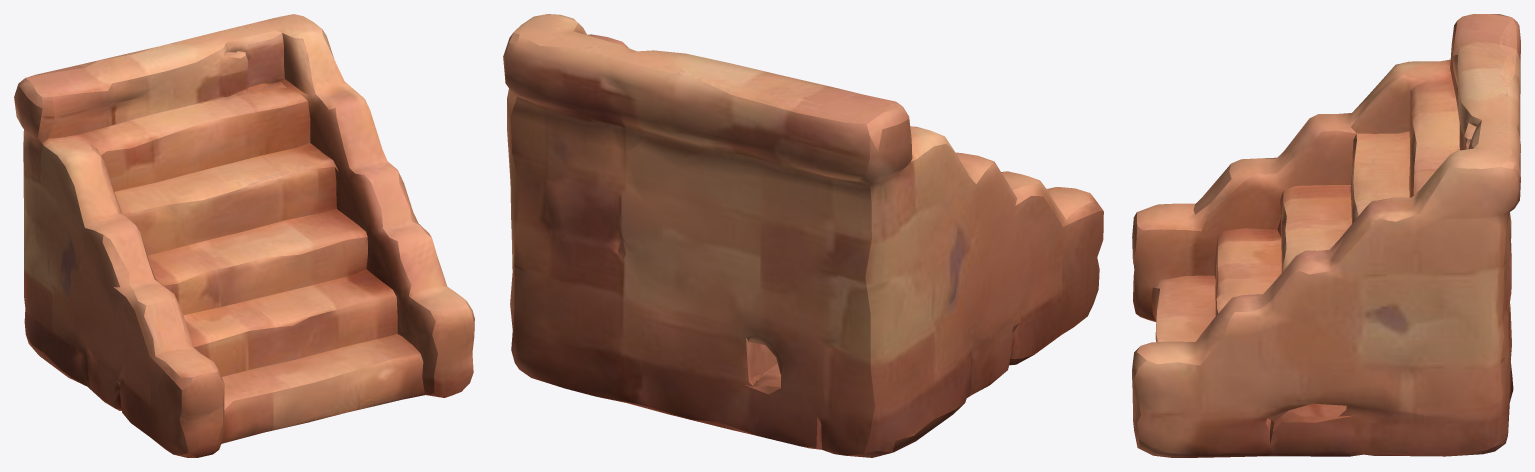
File: lg-ruined-amphitheatre.glb
3 views of the same model, side by side, from view 1: azimuth 30°, elevation 25°; view 2: azimuth 150°, elevation 25°; view 3: azimuth 270°, elevation 25° (orthographic). The views are drawn at different scales.
Visible parts, largest first — view 1: geometry_0; view 2: geometry_0; view 3: geometry_0.
Part boxes in pixels (bbox=[...]): geometry_0: bbox=[14, 14, 474, 457]; geometry_0: bbox=[503, 14, 1103, 457]; geometry_0: bbox=[1132, 14, 1520, 457].
Size of the model in its own units: 0.9946 by 0.8335 by 1.
1 material, 1 textured.
